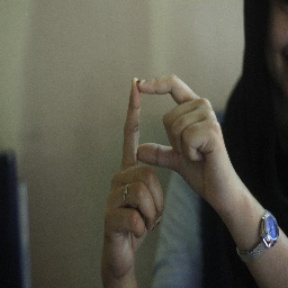D: (112, 72, 209, 193)
